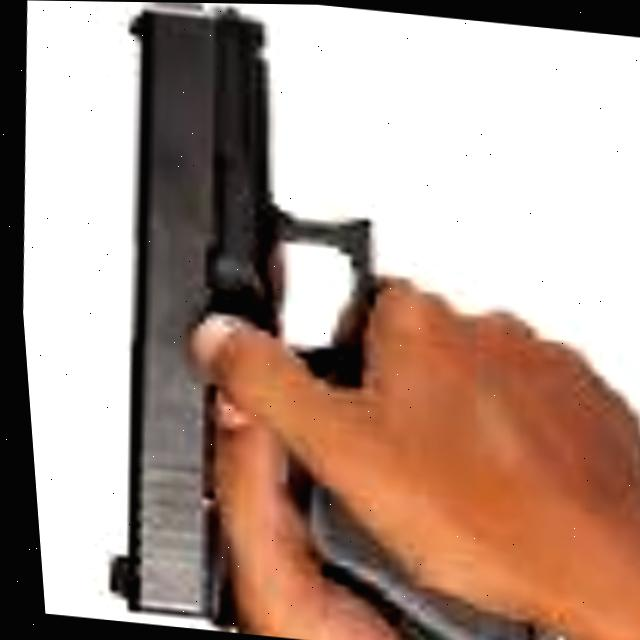pistol: (58, 1, 577, 640)
